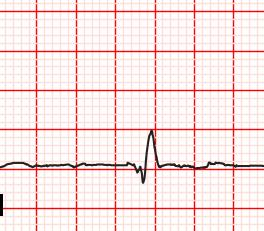Pathological Q Wave: (136, 162, 151, 187)
